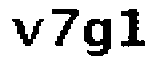1: (115, 5, 148, 49)
7: (45, 5, 79, 50)
g: (81, 15, 115, 60)
v: (7, 17, 46, 49)
